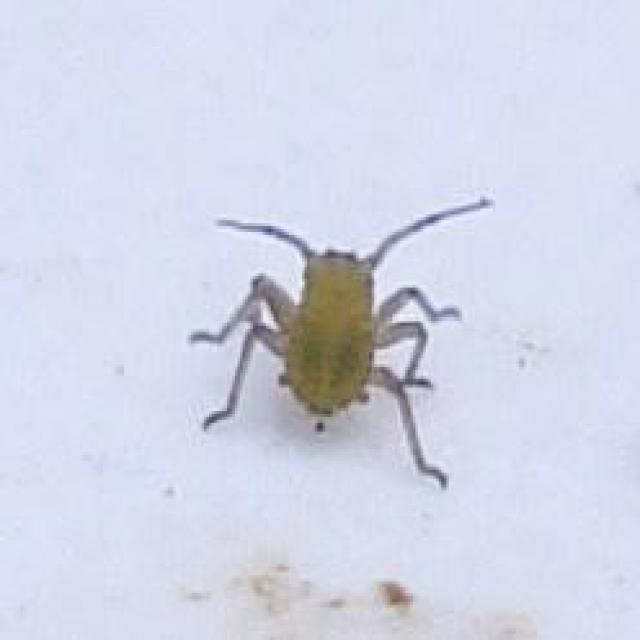aphid: (185, 173, 482, 479)
